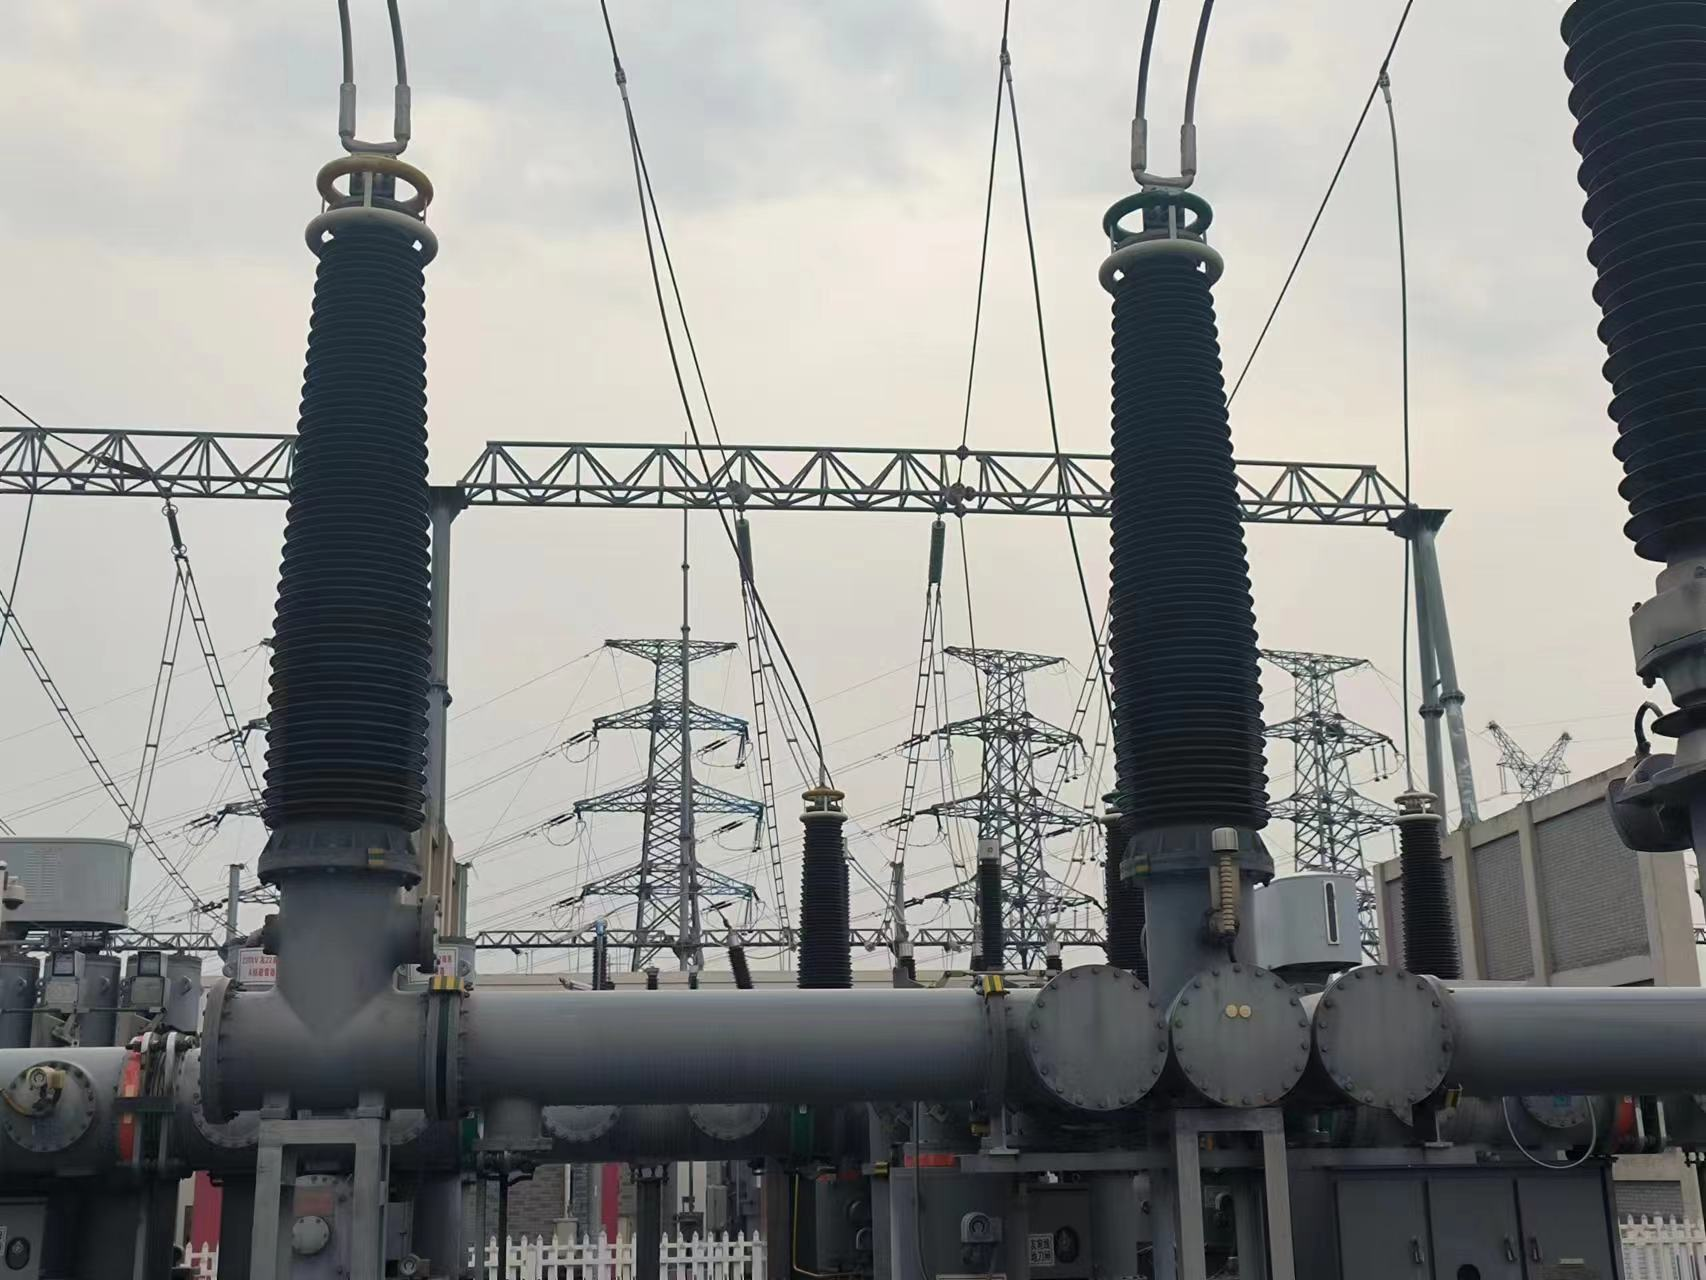Voltage transformer: (257, 159, 476, 826), (1075, 182, 1269, 830)
